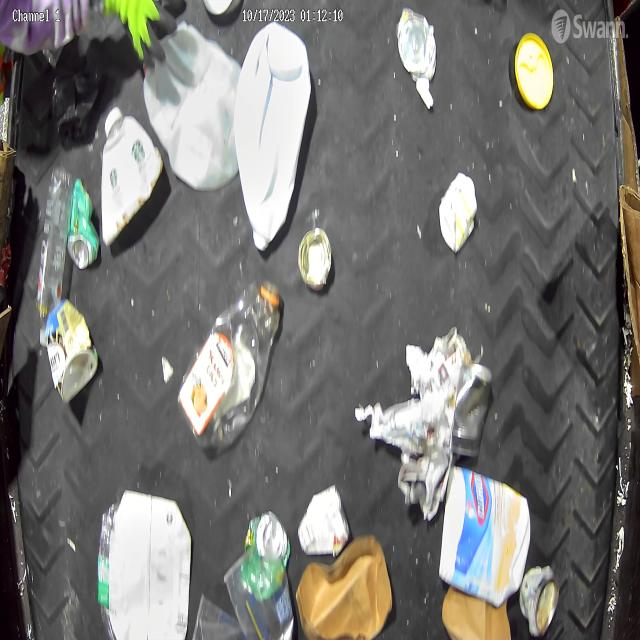can: (297, 483, 349, 558), (452, 360, 494, 450), (396, 8, 438, 83), (521, 562, 561, 638), (68, 176, 100, 269), (296, 227, 334, 294), (249, 512, 292, 564)
milk_jug: (236, 21, 314, 250), (142, 18, 240, 190)
plastic_bottle: (178, 280, 284, 450), (37, 169, 67, 320)
